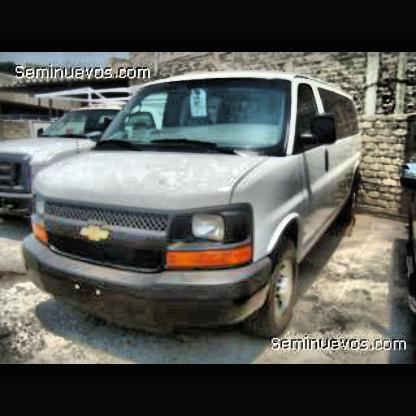Chevrolet Express Van 2007: (19, 76, 370, 342)
